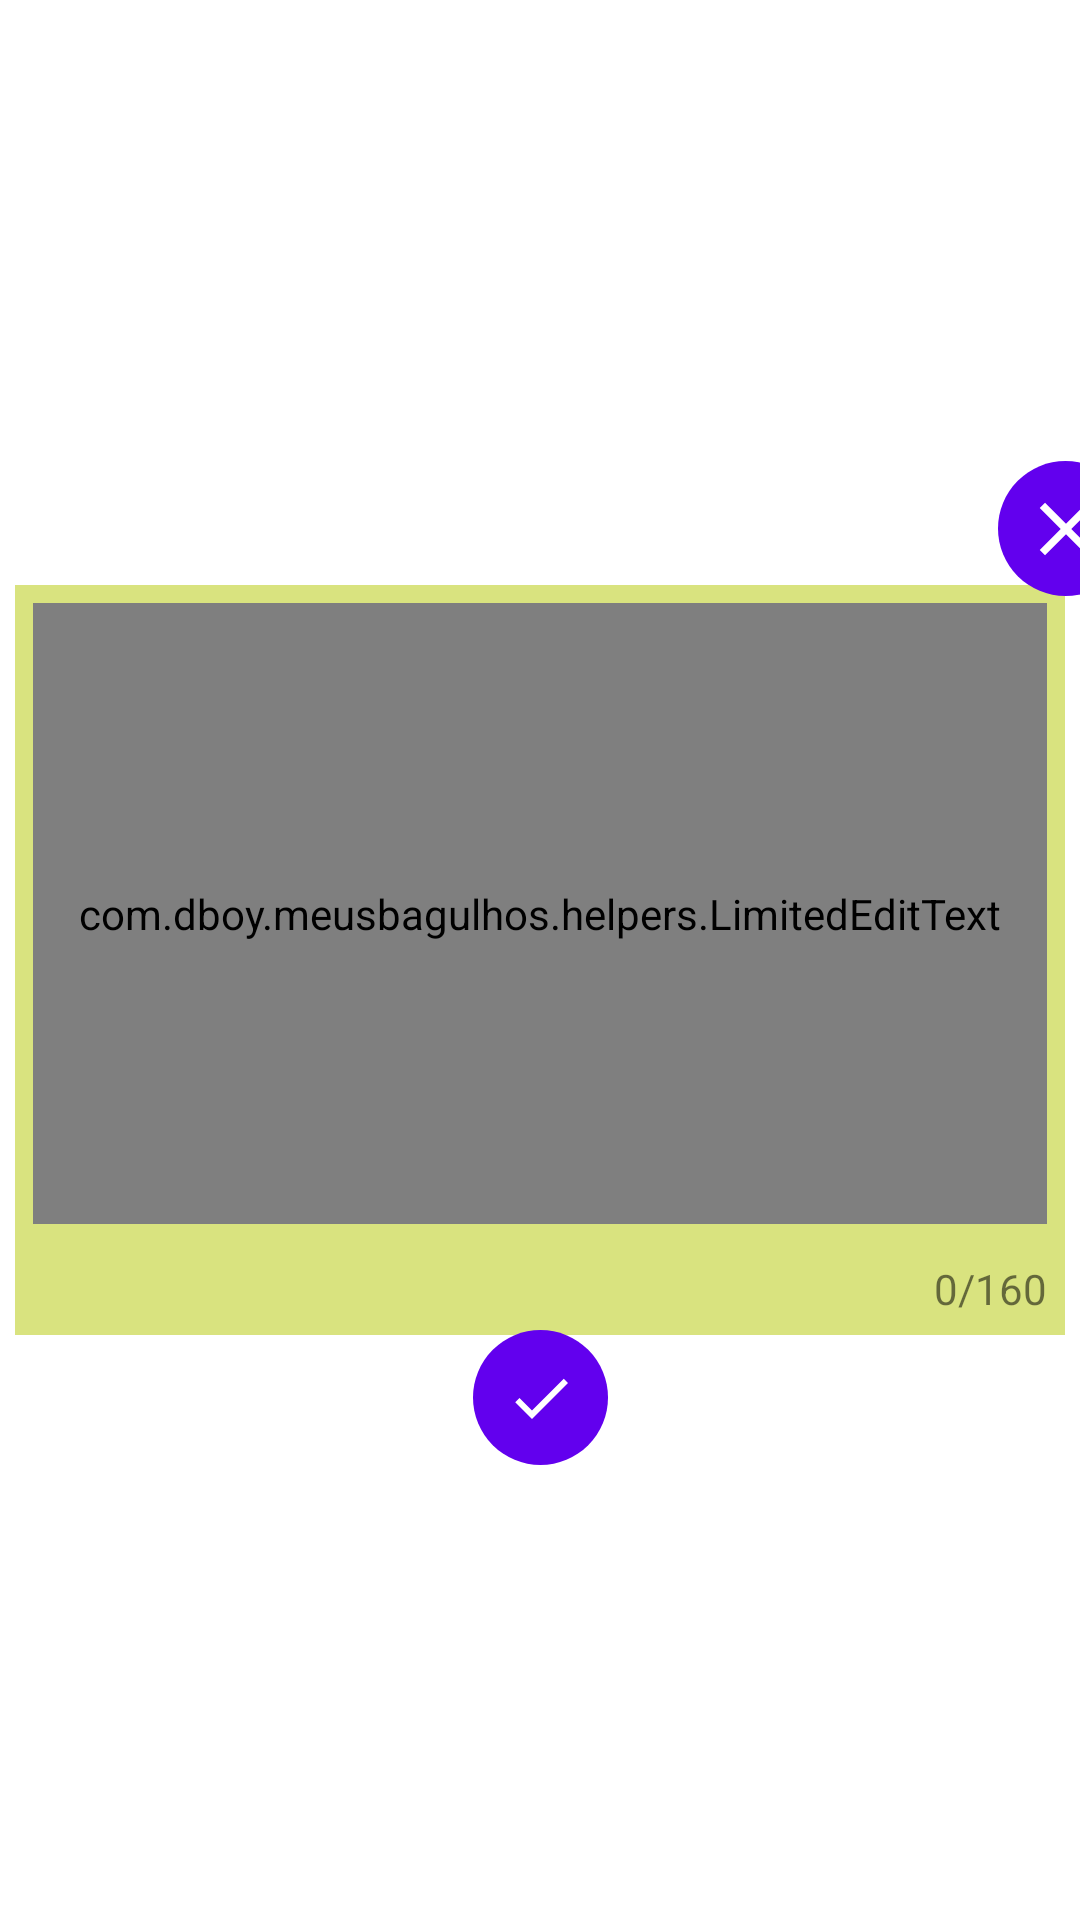

Icon bounding boxes for this 1080w x 1920h phone screenshot, format (x1, y1, x2, y2):
check: (473, 1330, 608, 1465)
